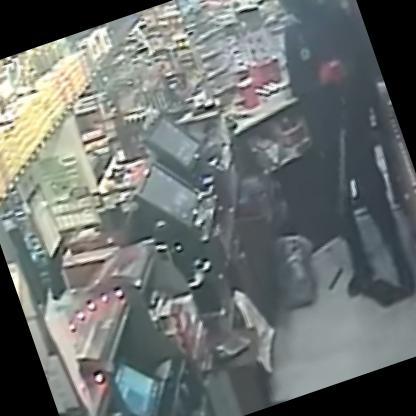Human Body: (236, 0, 415, 327)
